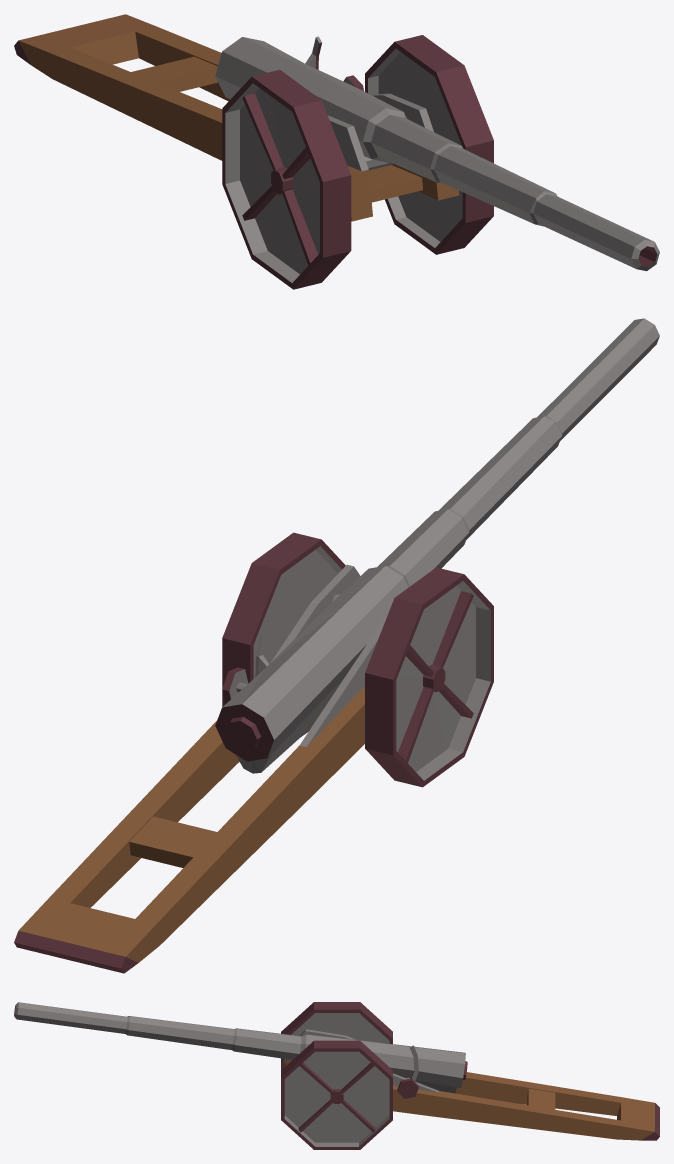
The model's file is cannon-naval.fbx.
The picture shows the model from 3 angles, top to bottom: view 1: azimuth 30°, elevation 25°; view 2: azimuth 150°, elevation 25°; view 3: azimuth 270°, elevation 25°; orthographic projection. The views are drawn at different scales.
Visible parts, largest first — view 1: cannon-naval; view 2: cannon-naval; view 3: cannon-naval.
Boxes of the visible parts, x1,y1,x2,y2 form: cannon-naval: (14, 14, 659, 289); cannon-naval: (14, 318, 659, 973); cannon-naval: (14, 1002, 659, 1149).
Size of the model in its own units: 1.21 by 1.51 by 7.12.
